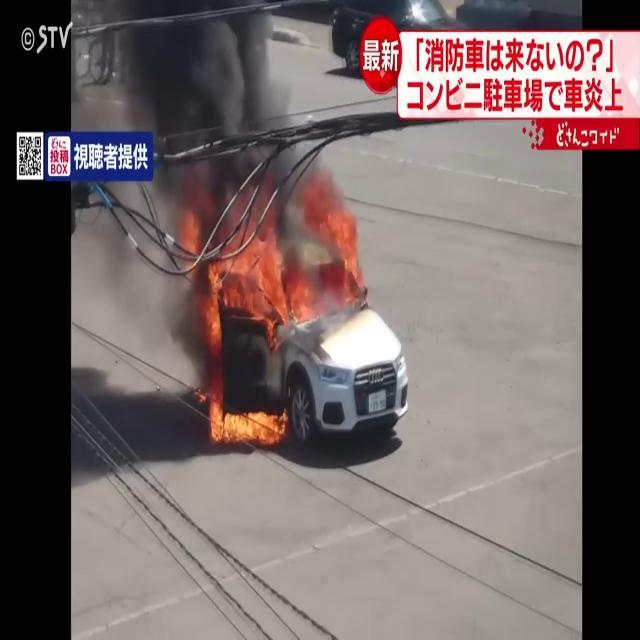Fire: (198, 196, 368, 343), (208, 398, 286, 451)
Smoke: (80, 2, 342, 228)
